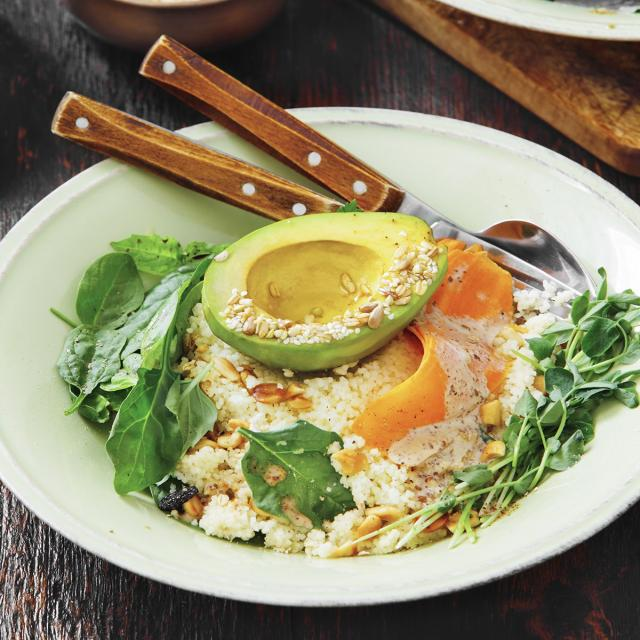aguacate: (198, 200, 457, 374)
